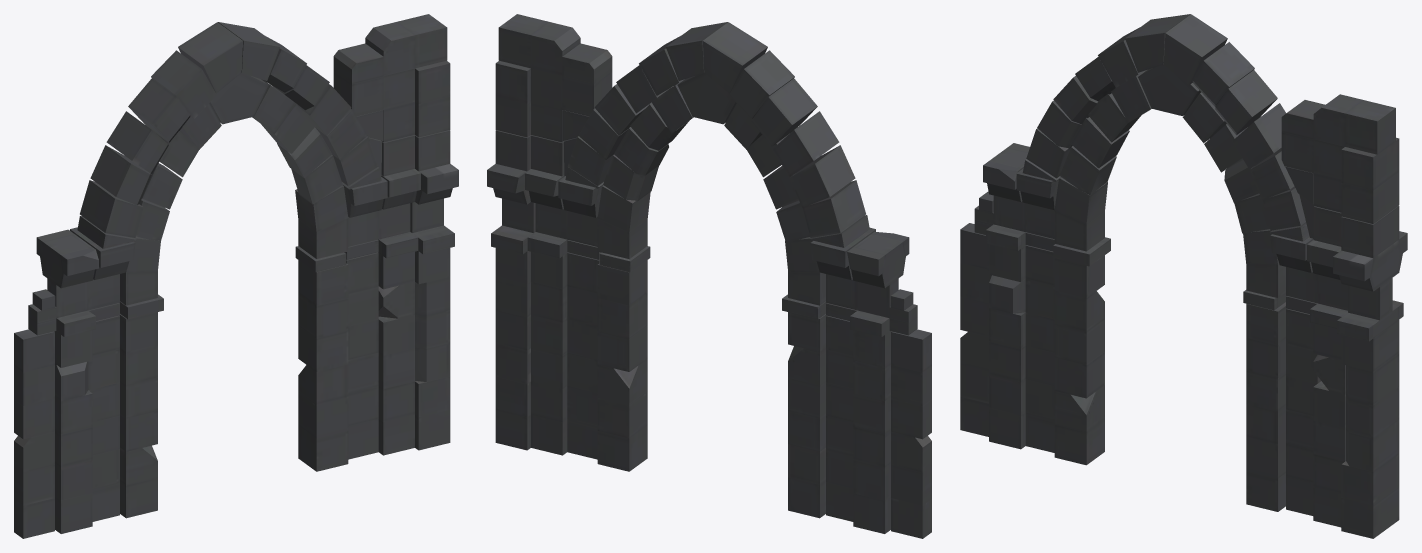
Rendered from d6lqRR2TU0i.glb.
3 views of the same model, side by side, from view 1: azimuth 30°, elevation 25°; view 2: azimuth 150°, elevation 25°; view 3: azimuth 330°, elevation 25° (orthographic).
Parts seen in each view (by area): view 1: Archway1; view 2: Archway1; view 3: Archway1.
Boxes of the visible parts, box(x1,y1,x2,y2) form: Archway1: box(14, 14, 458, 538); Archway1: box(487, 14, 931, 538); Archway1: box(960, 14, 1407, 538).
Bounding box in the file's own units: 0.9698 × 1 × 0.1713.
Materials: 1 (1 with a texture image).
